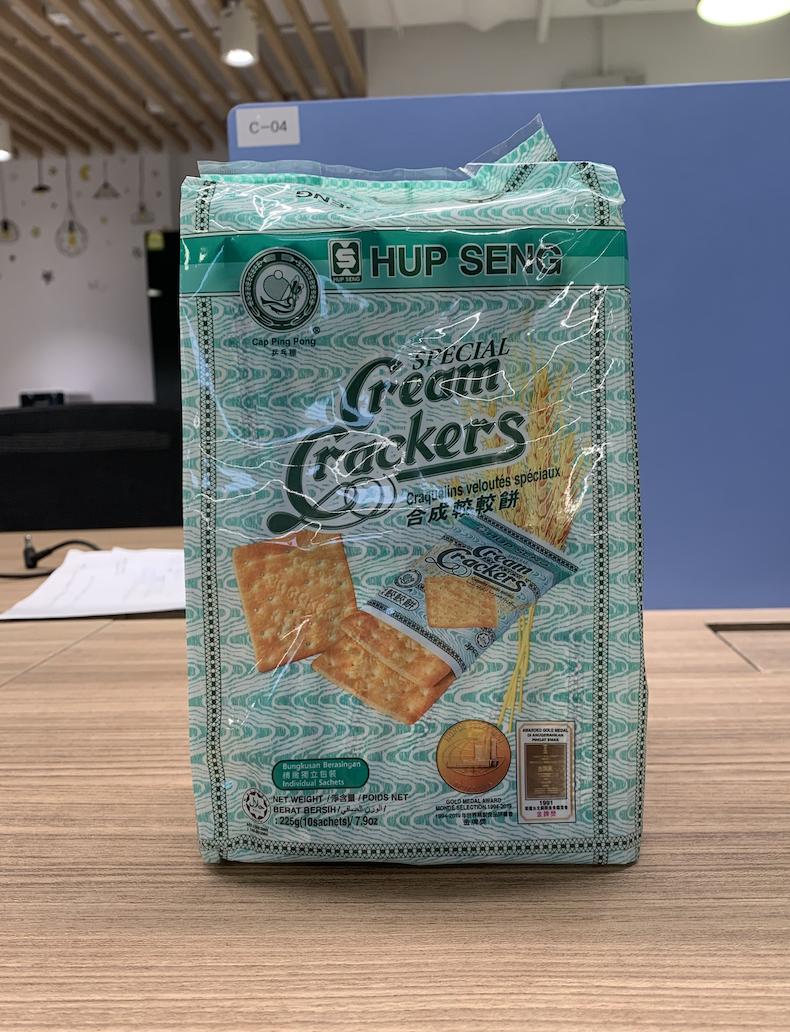crackers_200g-299g: (200, 180, 629, 841)
